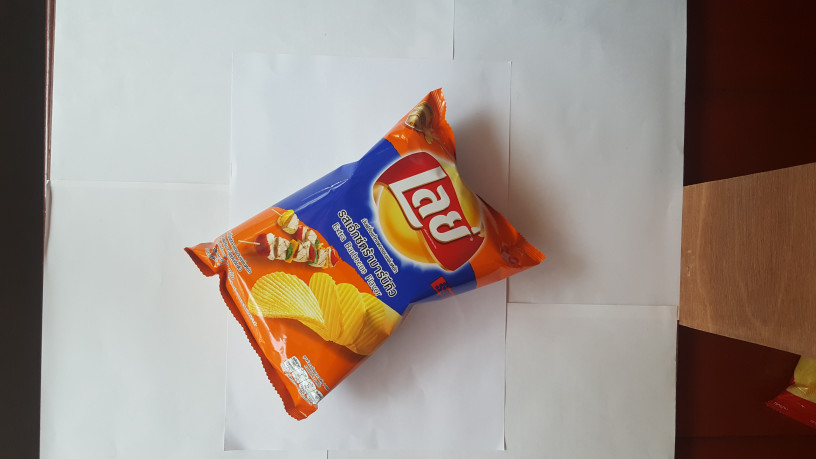lays-bbq: (179, 80, 547, 421)
